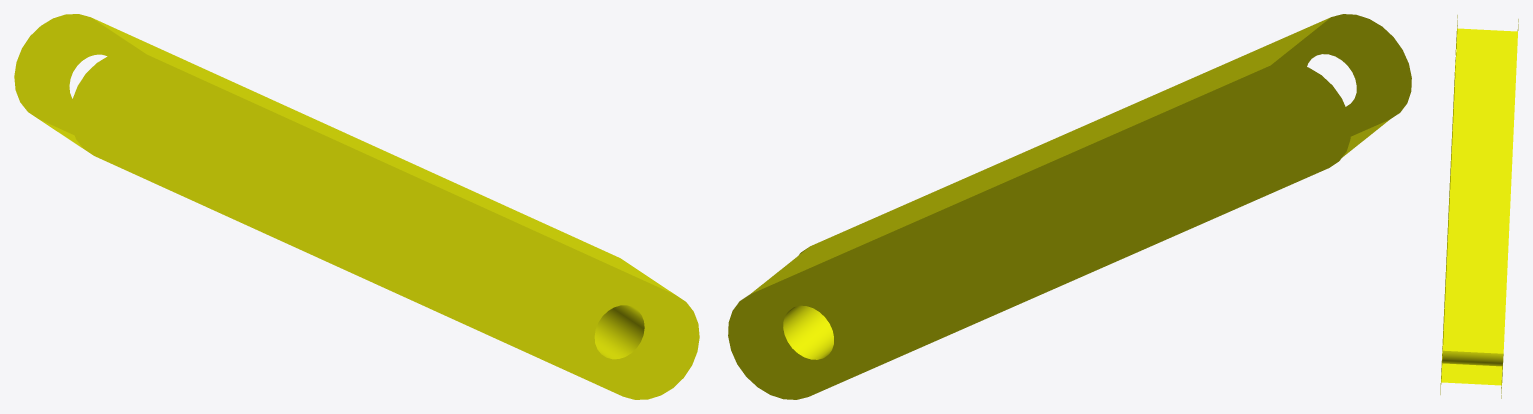
The model's file is body_13.obj.
The picture shows the model from 3 angles, left to right: view 1: azimuth 30°, elevation 25°; view 2: azimuth 150°, elevation 25°; view 3: azimuth 270°, elevation 25°; orthographic projection. The views are drawn at different scales.
Visible parts, largest first — view 1: Body_20; view 2: Body_20; view 3: Body_20.
Part boxes in pixels (box(x1,y1,x2,y2)): Body_20: box(14, 14, 699, 399); Body_20: box(728, 14, 1411, 399); Body_20: box(1440, 15, 1518, 398).
Size of the model in its own units: 0.0496 by 0.0358 by 0.0103.
